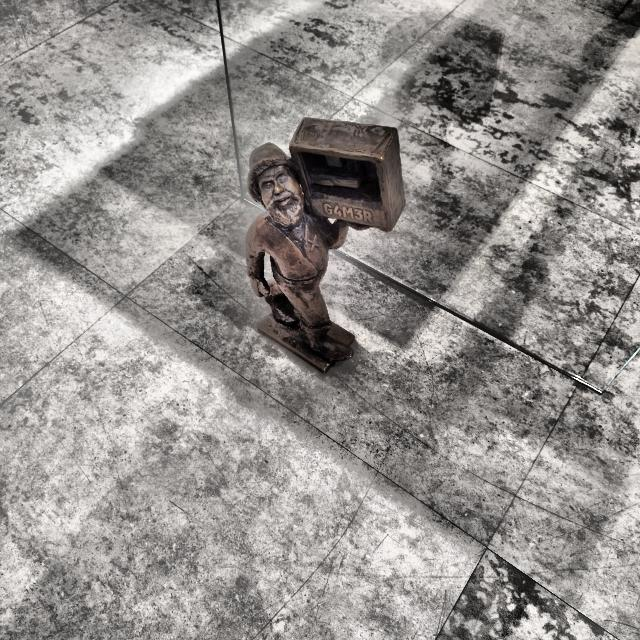GigaHercjusz: (246, 119, 405, 372)
